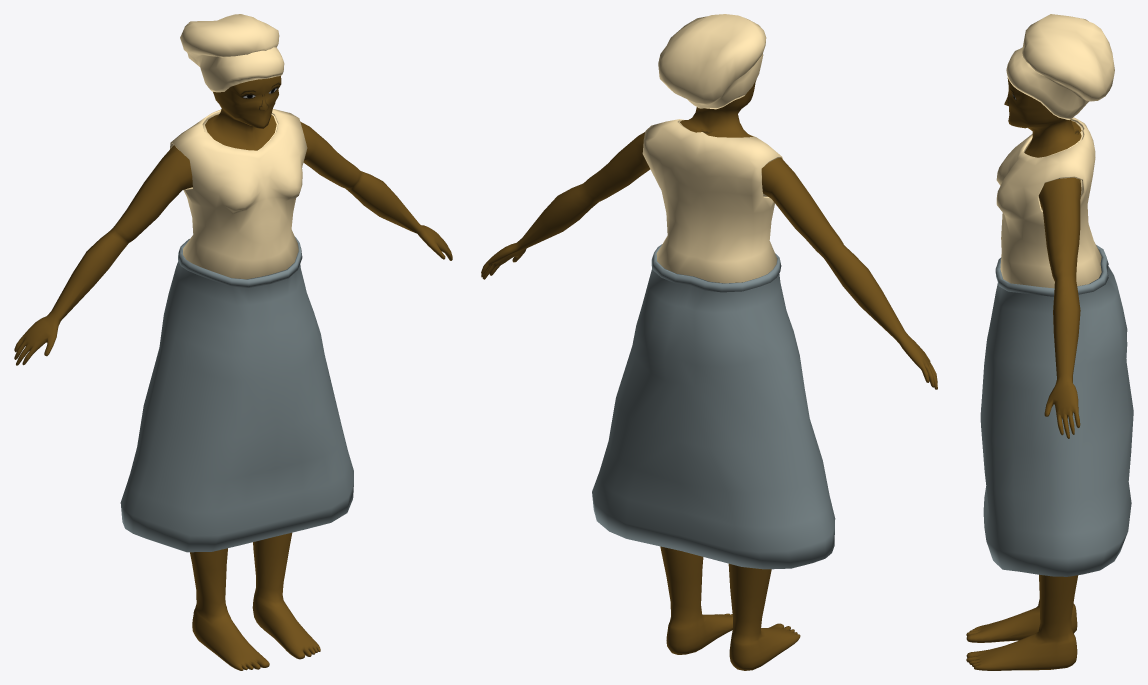
Rendered from Luiza.fbx.
3 views of the same model, side by side, from view 1: azimuth 30°, elevation 25°; view 2: azimuth 150°, elevation 25°; view 3: azimuth 270°, elevation 25° (orthographic). The views are drawn at different scales.
Parts seen in each view (by area): view 1: Vestido, Luiza Mahin, Turbante; view 2: Vestido, Luiza Mahin, Turbante; view 3: Vestido, Luiza Mahin, Turbante.
Part boxes in pixels (bbox=[...]): Vestido: bbox=[120, 109, 353, 552]; Luiza Mahin: bbox=[14, 76, 452, 670]; Turbante: bbox=[180, 14, 284, 92]; Vestido: bbox=[592, 119, 835, 569]; Luiza Mahin: bbox=[481, 79, 937, 670]; Turbante: bbox=[658, 14, 766, 109]; Vestido: bbox=[980, 117, 1133, 576]; Luiza Mahin: bbox=[966, 78, 1083, 670]; Turbante: bbox=[1006, 14, 1114, 119].
Bounding box in the file's own units: 123 × 165 × 40.34.
Materials: 3 (1 with a texture image).
